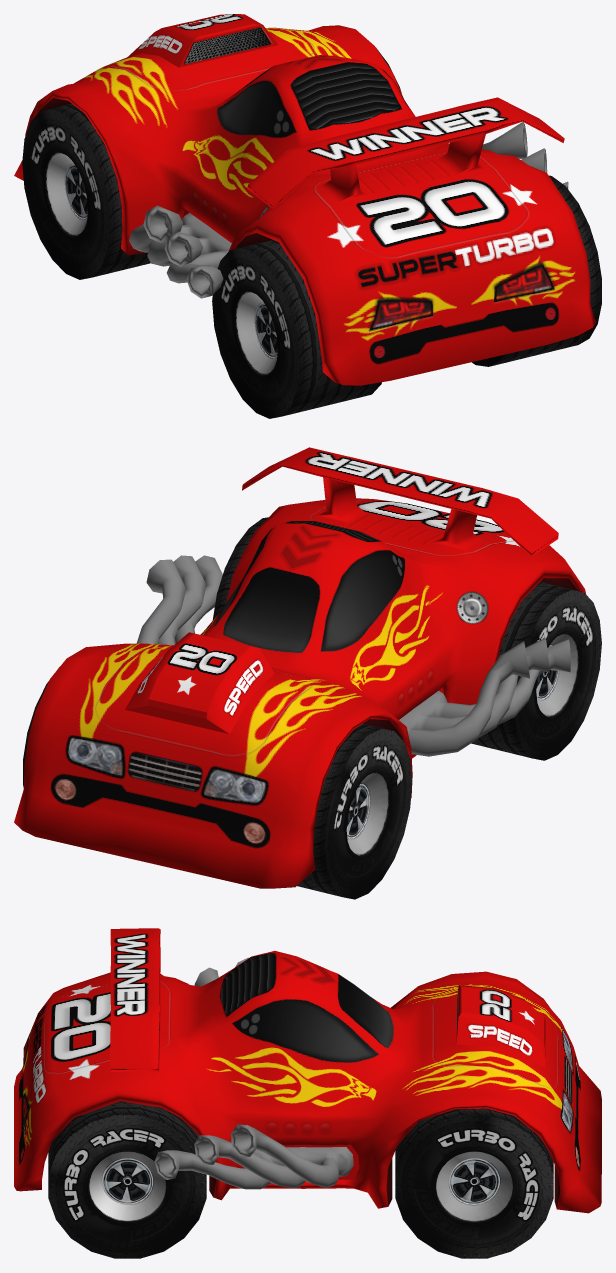
The model's file is ultimate-race-car.fbx.
3 renders of one model, top to bottom at view 1: azimuth 30°, elevation 25°; view 2: azimuth 150°, elevation 25°; view 3: azimuth 270°, elevation 25°, orthographic. The views are drawn at different scales.
Parts seen in each view (by area): view 1: Body, RLWheel, FLWheel, LMuffler, RRWheel, RMuffler; view 2: Body, FLWheel, RLWheel, LMuffler, RMuffler, RRWheel; view 3: Body, FRWheel, RRWheel, RMuffler.
Boxes of the visible parts, x1=… form: Body: x1=14, y1=14, x2=595, y2=385; RLWheel: x1=212, y1=240, x2=381, y2=418; FLWheel: x1=22, y1=103, x2=150, y2=279; LMuffler: x1=129, y1=205, x2=231, y2=298; RRWheel: x1=472, y1=175, x2=601, y2=366; RMuffler: x1=482, y1=122, x2=568, y2=189; Body: x1=14, y1=447, x2=586, y2=888; FLWheel: x1=297, y1=723, x2=412, y2=899; RLWheel: x1=471, y1=581, x2=601, y2=760; LMuffler: x1=399, y1=638, x2=570, y2=756; RMuffler: x1=136, y1=555, x2=222, y2=644; RRWheel: x1=212, y1=517, x2=268, y2=620; Body: x1=14, y1=928, x2=601, y2=1213; FRWheel: x1=395, y1=1108, x2=553, y2=1258; RRWheel: x1=48, y1=1101, x2=206, y2=1258; RMuffler: x1=154, y1=1124, x2=353, y2=1189.
Size of the model in its own units: 20.21 by 12.58 by 29.38.
